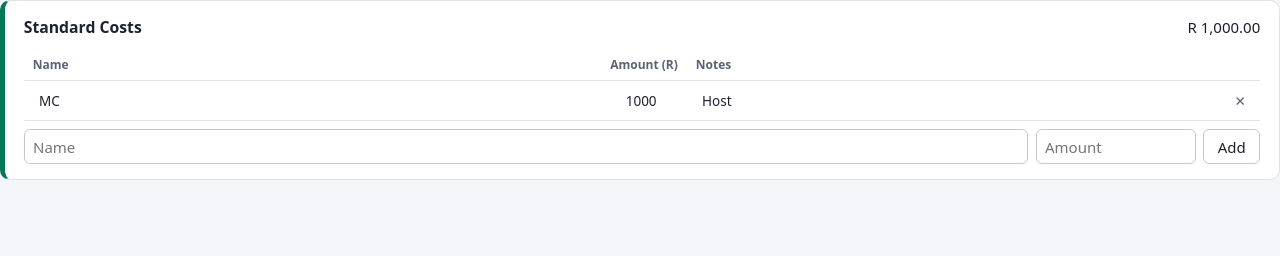
Test case: editing a line › shows the server error when saving fails, then clears it after a good save
Later steps or results of the test are not shown.
Replace the text in the number field named "Amount for MC" with "900" at (622, 100), box [563,84,681,116]
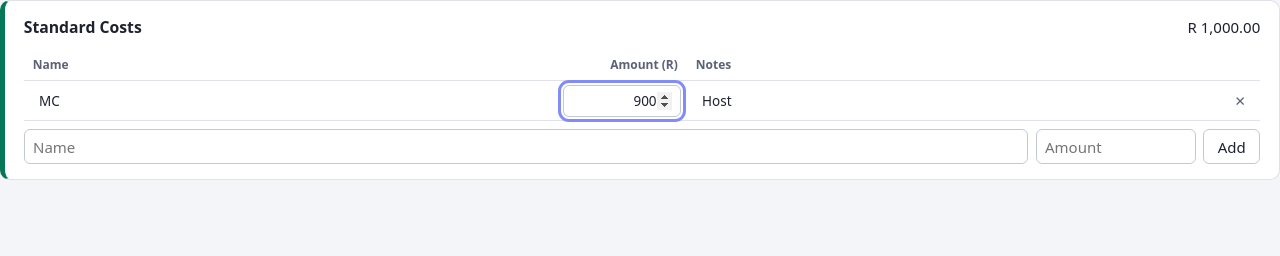
Press Tab
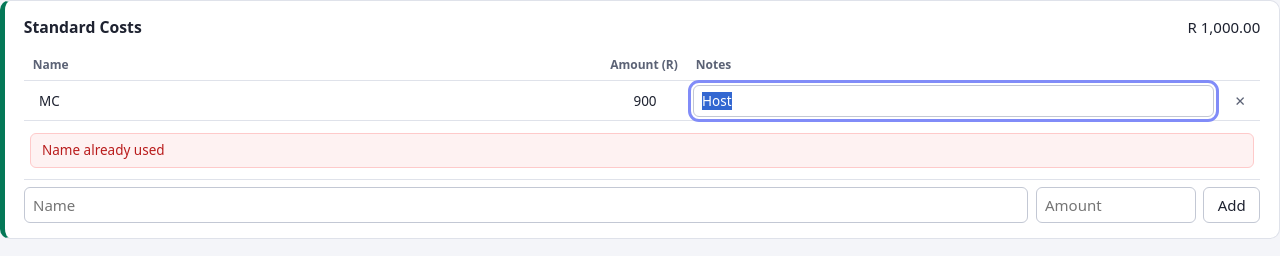
Expected: the message reads "Name already used", [42,141,165,159]
